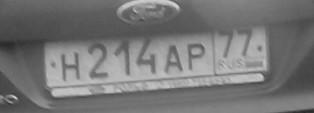license-plateSW: (42, 24, 270, 89)
